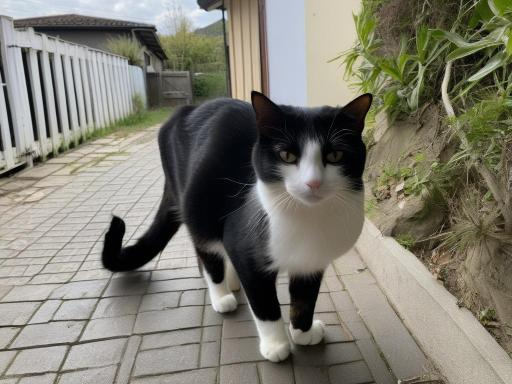cat_standing: (102, 91, 372, 362)
